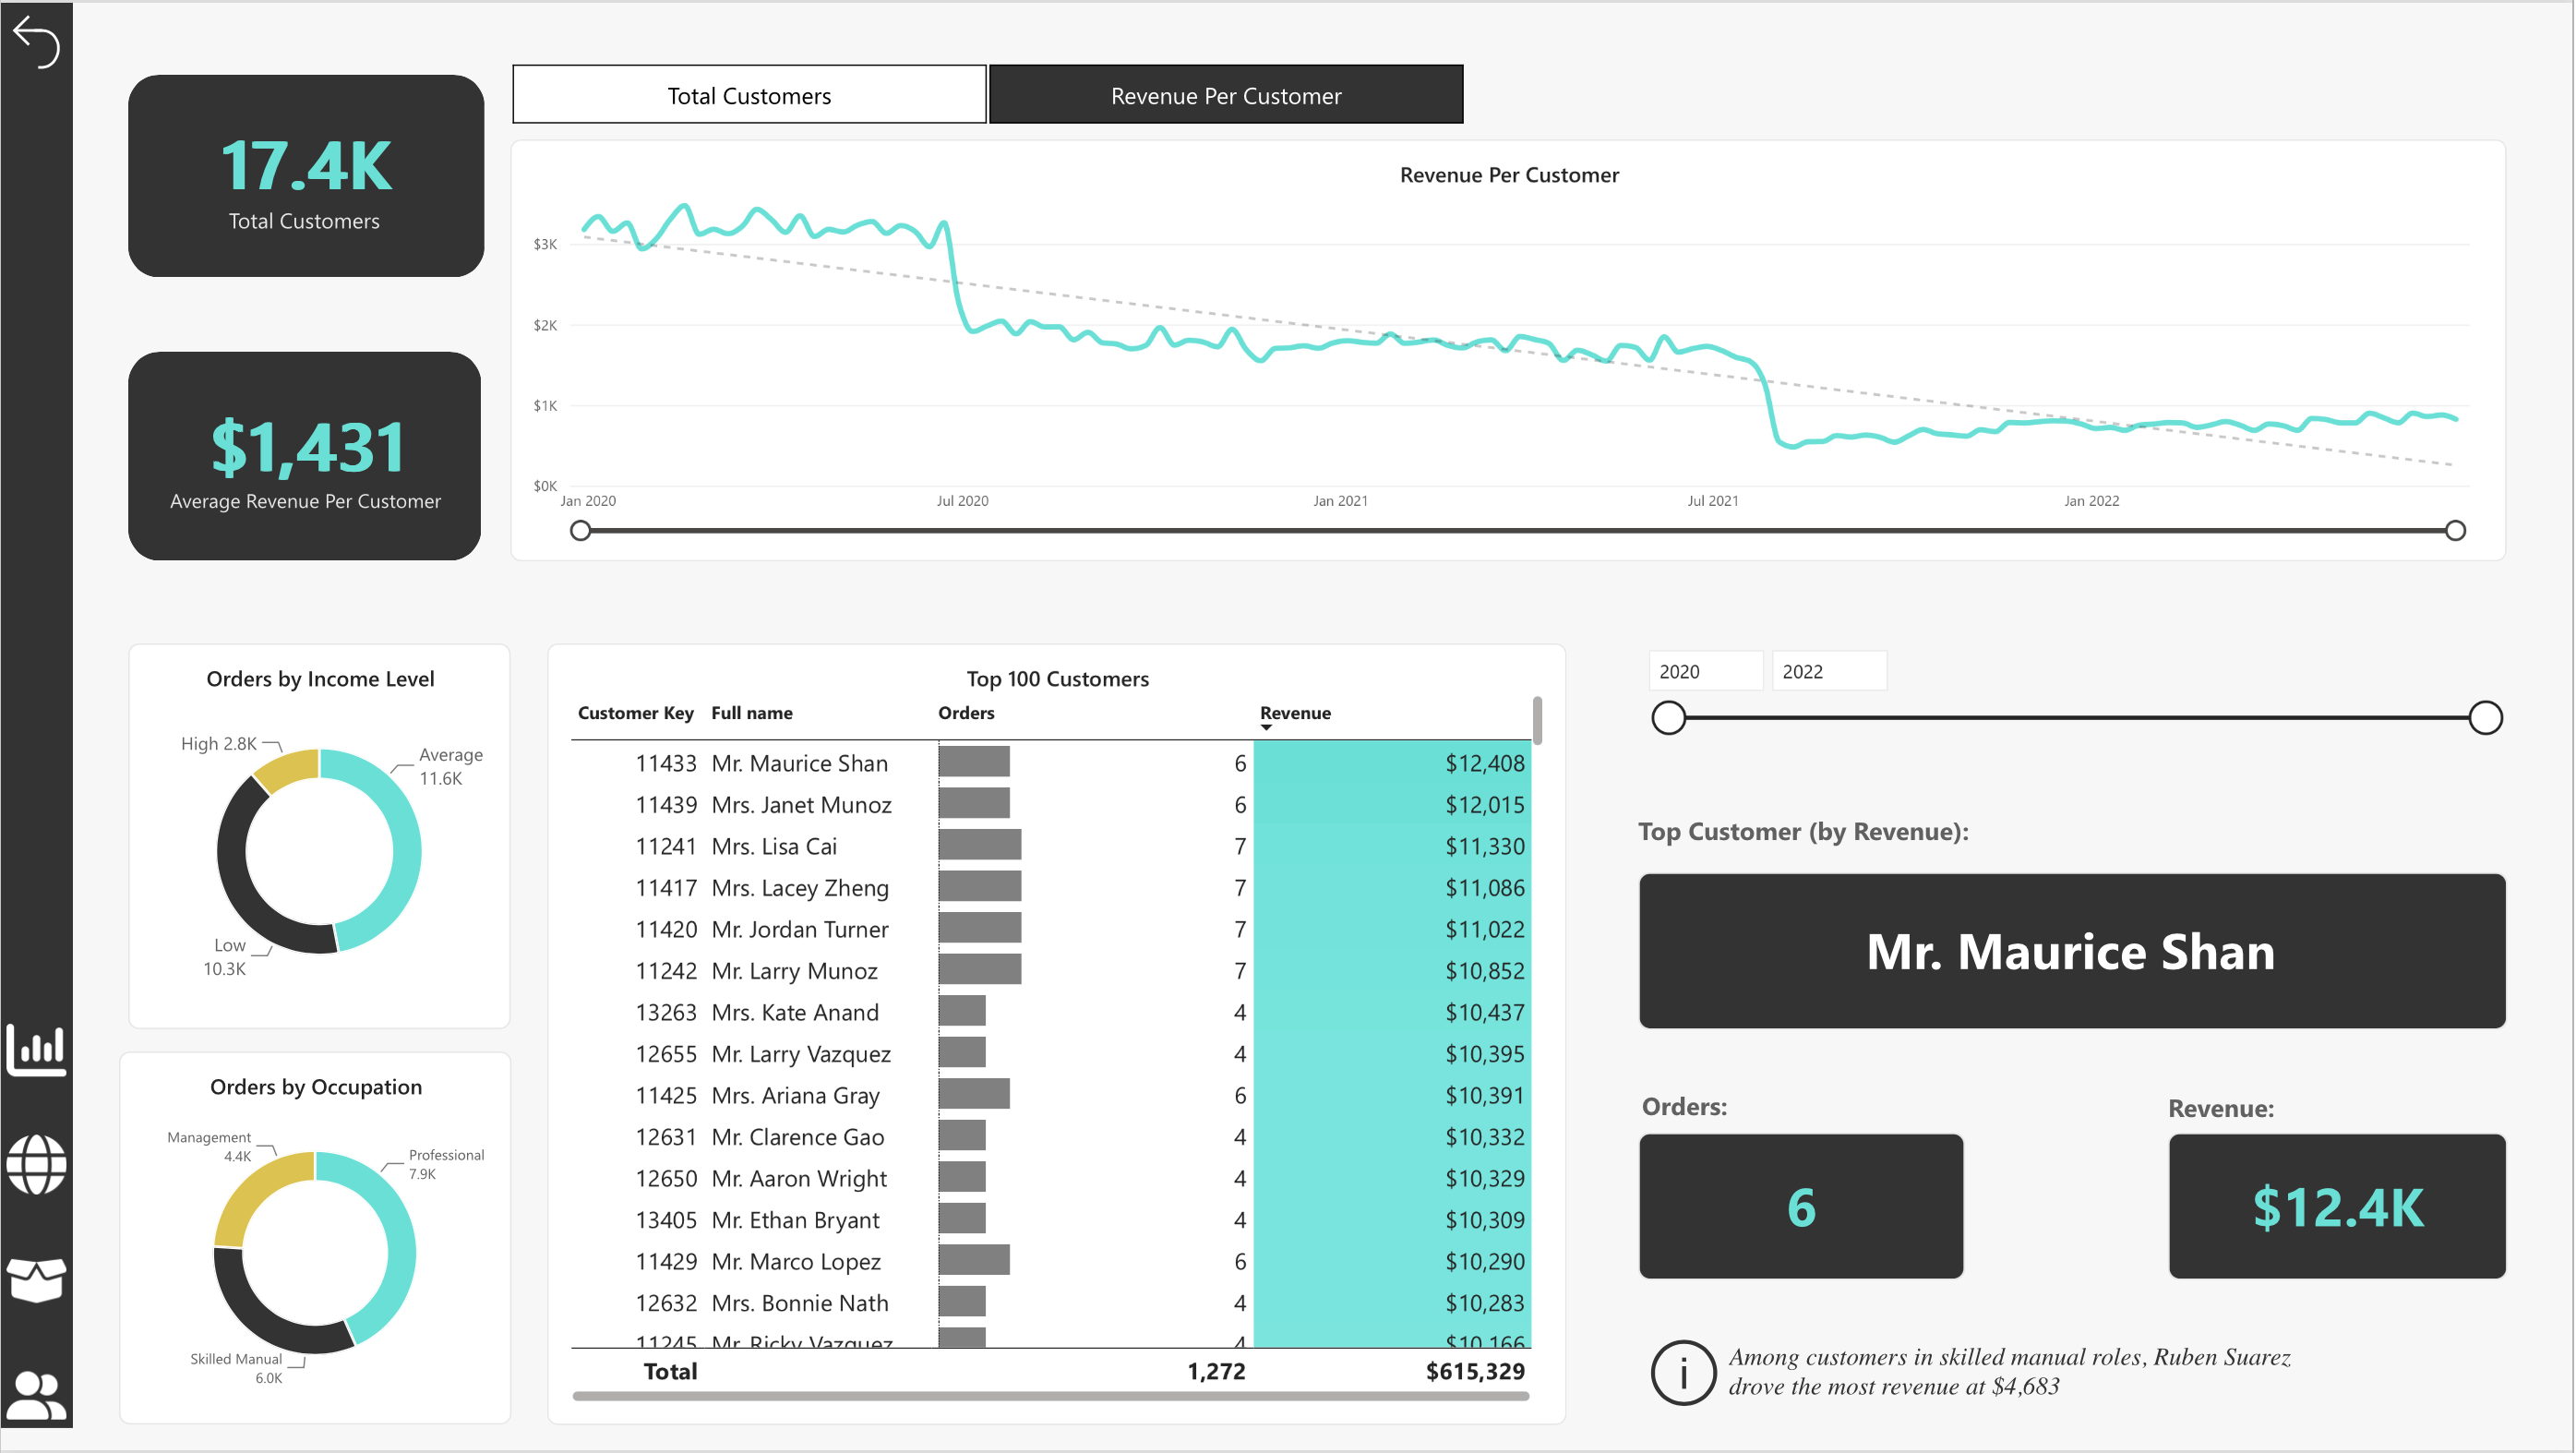

What the dashboard file says about the page in this screenshot:
{"tool":"powerbi","page":{"name":"Customer Detail","canvas":[1920,1080],"ordinal":3},"visuals":[{"type":"shape","box":[0,0,54,1064],"z":0},{"type":"shape","box":[95.2,53.7,265.9,151.3],"z":1000},{"type":"actionButton","box":[0,827.5,53.2,80.9],"z":1000,"group":"g1"},{"type":"shape","box":[95.2,261.1,263.5,156.1],"z":2000},{"type":"actionButton","box":[0,913.3,53.2,80.9],"z":2000,"group":"g1"},{"type":"card","fields":{"Values":["Measure Table.Total Customers"]},"box":[107.4,73.2,240,112.9],"z":3000},{"type":"actionButton","box":[0,741.7,53.2,80.9],"z":3000,"group":"g1"},{"type":"card","fields":{"Values":["Measure Table.Average Revenue Per Customer"]},"box":[104.9,280.6,247.1,115.7],"z":4000},{"type":"actionButton","box":[0,999.1,53.2,80.9],"z":4000,"group":"g1"},{"type":"lineChart","fields":{"Category":["Calendar Lookup.Date Hierarchy.Start of Year","Calendar Lookup.Date Hierarchy.Start of Month","Calendar Lookup.Date Hierarchy.Start of Week","Calendar Lookup.Date Hierarchy.Date"],"Y":["Measure Table.Average Revenue Per Customer"]},"box":[380.6,102.5,1490.7,314.7],"z":5000},{"type":"donutChart","title":"Orders by Income Level","fields":{"Category":["Customer Lookup.IncomeLevel"],"Y":["Measure Table.Total Orders"]},"box":[95.2,478.2,285.5,287.9],"z":6000},{"type":"donutChart","title":"Orders by Occupation","fields":{"Category":["Customer Lookup.Occupation"],"Y":["Measure Table.Total Orders"]},"box":[87.8,783.2,292.8,278.1],"z":7000},{"type":"tableEx","title":"Top 100 Customers","fields":{"Values":["Customer Lookup.CustomerKey","Customer Lookup.Full name","Measure Table.Total Orders","Measure Table.Total Revenue"]},"box":[407.4,478.2,761.2,583.1],"z":8000},{"type":"card","fields":{"Values":["Customer Lookup.Full Name (Customer Detail)"]},"box":[1222.3,649,649,117.1],"z":9000},{"type":"card","fields":{"Values":["Measure Table.Total Orders (Customer Detail)"]},"box":[1222.3,844.2,244,109.8],"z":10000},{"type":"card","fields":{"Values":["Measure Table.Total Revenue (Customer Detail)"]},"box":[1617.6,844.2,253.7,109.8],"z":11000},{"type":"textbox","box":[1222.3,605.1,300.1,43.9],"z":12000},{"type":"textbox","box":[1224.8,810,143.9,43.9],"z":13000},{"type":"textbox","box":[1617.6,812.5,107.4,39],"z":14000},{"type":"slicer","fields":{"Values":["Calendar Lookup.Date.Variation.Date Hierarchy.Year"]},"box":[1222.3,478.2,649,109.8],"z":15000},{"type":"actionButton","box":[1224.8,980.8,497.7,83],"z":16000},{"type":"actionButton","box":[0,2.4,53.7,51.2],"z":17000},{"type":"group","id":"g1","title":"Navigation Buttons","box":[0,741.7,53.7,339.1],"z":18000},{"type":"slicer","fields":{"Values":["Customer Metric Selection.Customer Metric Selection"]},"box":[361.1,43.9,750,48],"z":18501}]}

Visuals, with their boxes on the page's 1920x1080 design canvas (x1, y1, x2, y2). These are canvas units, not pixel positions in the 2576x1453 screenshot, which may show the page scaled, cropped or inside an application window:
shape: [0, 0, 54, 1064]
shape: [95, 54, 361, 205]
actionButton: [0, 828, 53, 908]
shape: [95, 261, 359, 417]
actionButton: [0, 913, 53, 994]
card - Measure Table.Total Customers: [107, 73, 347, 186]
actionButton: [0, 742, 53, 823]
card - Measure Table.Average Revenue Per Customer: [105, 281, 352, 396]
actionButton: [0, 999, 53, 1080]
lineChart - Calendar Lookup.Date Hierarchy.Start of Year x Calendar Lookup.Date Hierarchy.Start of Month: [381, 102, 1871, 417]
"Orders by Income Level" donutChart: [95, 478, 381, 766]
"Orders by Occupation" donutChart: [88, 783, 381, 1061]
"Top 100 Customers" tableEx: [407, 478, 1169, 1061]
card - Customer Lookup.Full Name (Customer Detail): [1222, 649, 1871, 766]
card - Measure Table.Total Orders (Customer Detail): [1222, 844, 1466, 954]
card - Measure Table.Total Revenue (Customer Detail): [1618, 844, 1871, 954]
textbox: [1222, 605, 1522, 649]
textbox: [1225, 810, 1369, 854]
textbox: [1618, 812, 1725, 852]
slicer - Calendar Lookup.Date.Variation.Date Hierarchy.Year: [1222, 478, 1871, 588]
actionButton: [1225, 981, 1722, 1064]
actionButton: [0, 2, 54, 54]
"Navigation Buttons" group: [0, 742, 54, 1081]
slicer - Customer Metric Selection.Customer Metric Selection: [361, 44, 1111, 92]
